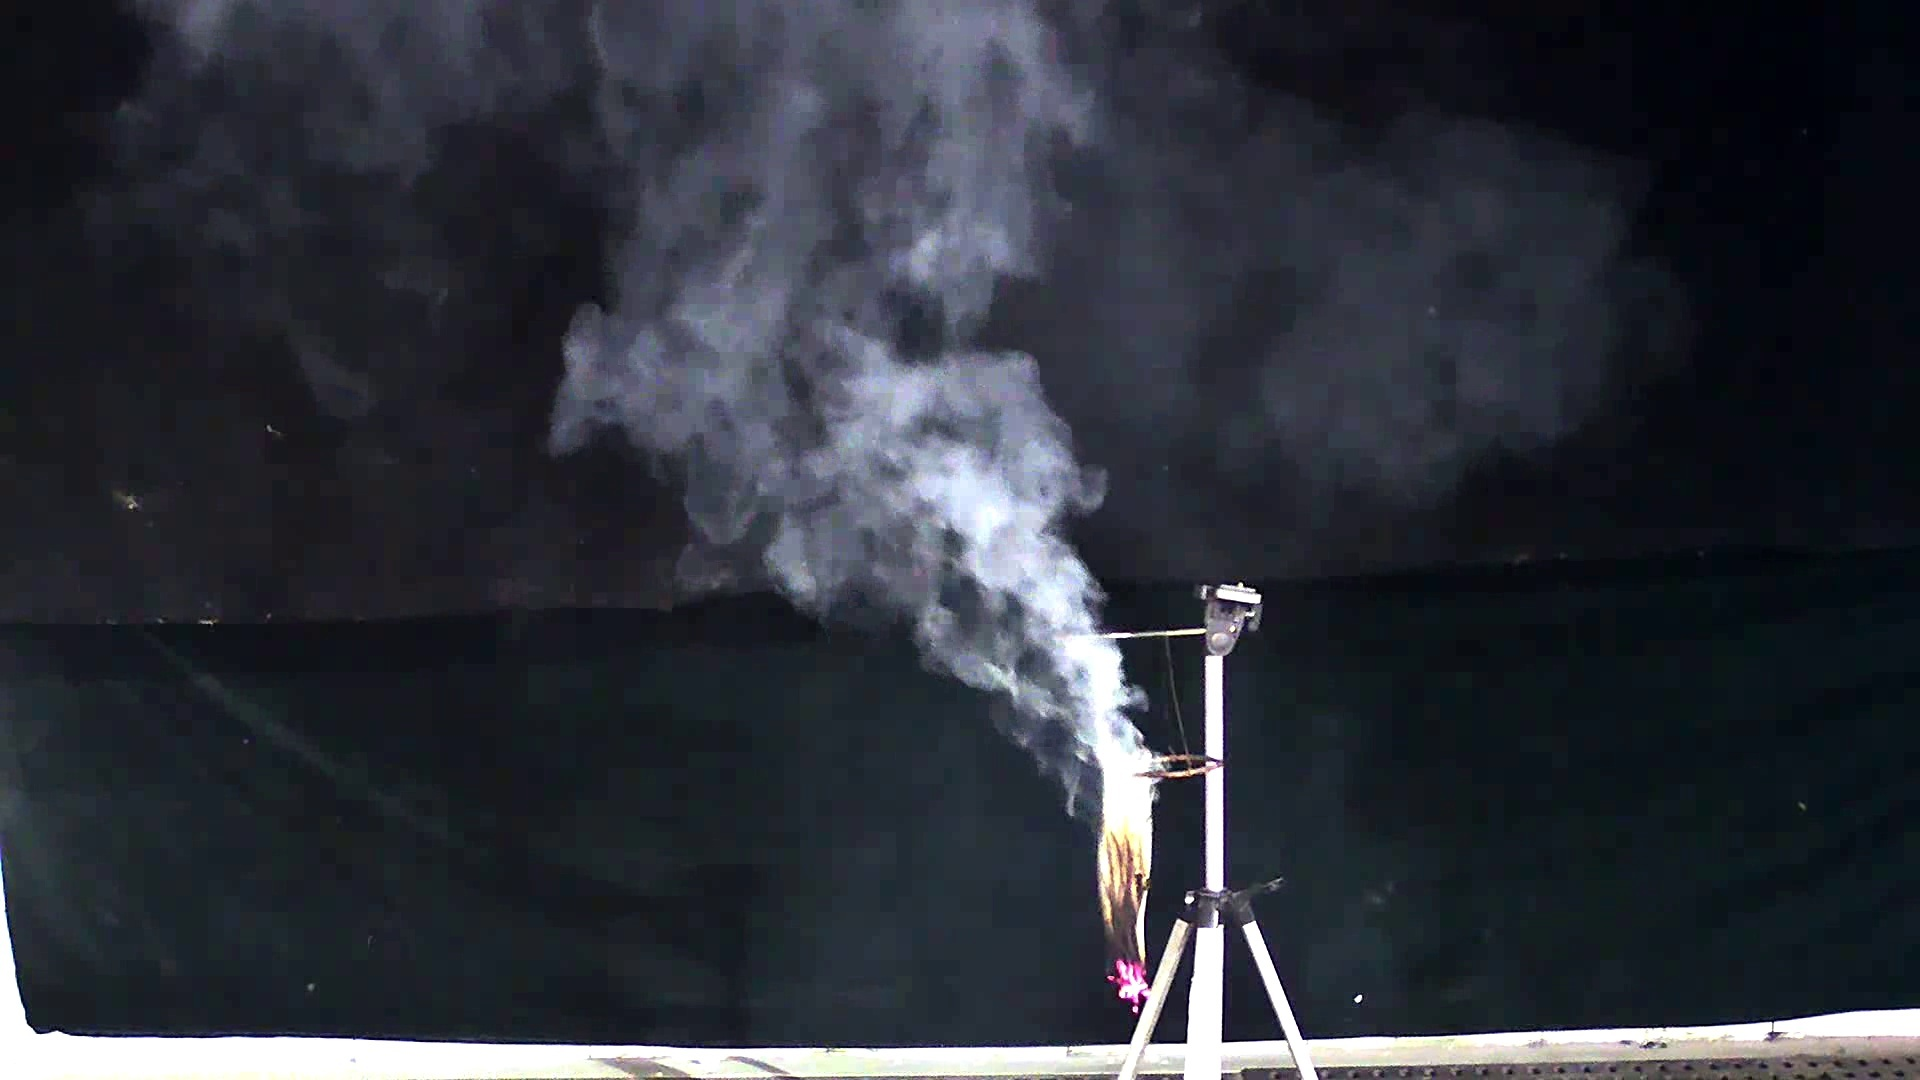smoke: (452, 47, 1171, 853)
